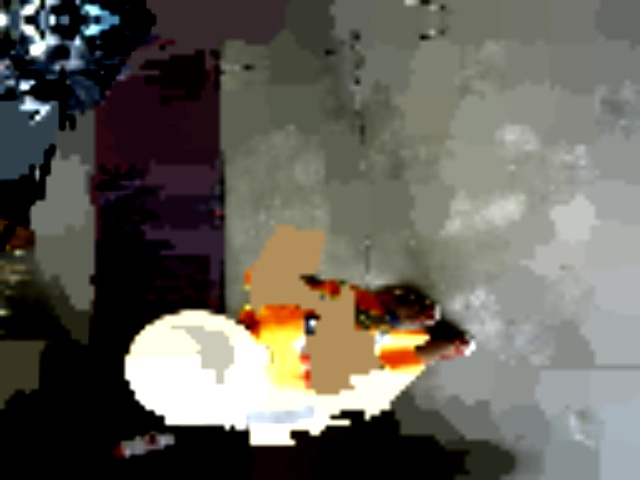eight: (194, 352, 234, 396)
